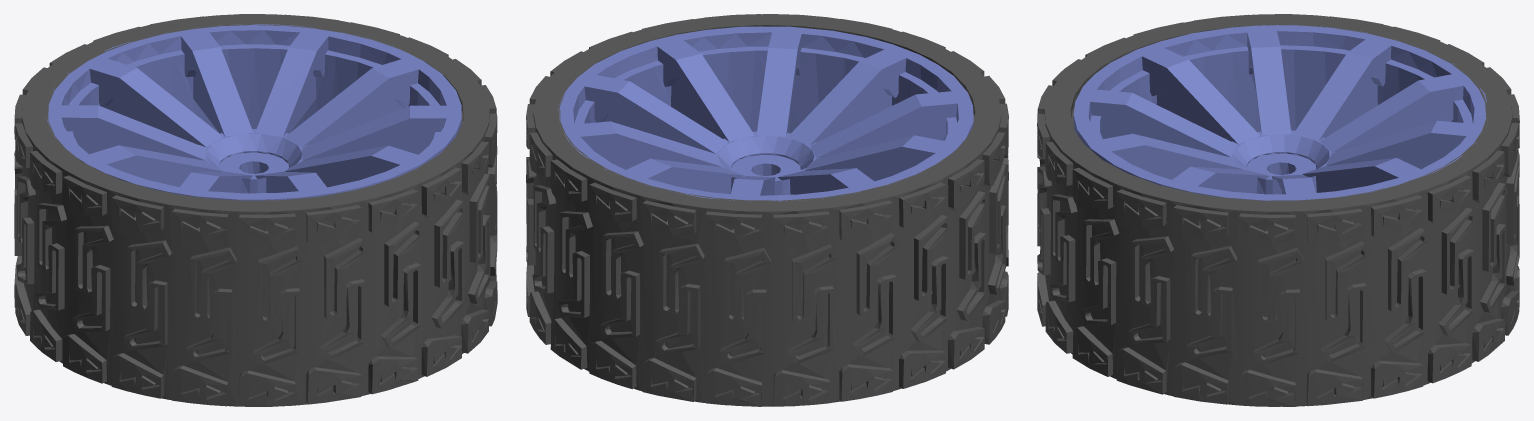
The model's file is wheel.dae.
3 views of the same model, side by side, from view 1: azimuth 30°, elevation 25°; view 2: azimuth 150°, elevation 25°; view 3: azimuth 270°, elevation 25° (orthographic).
Visible parts, largest first — view 1: node1; view 2: node1; view 3: node1.
Boxes of the visible parts, x1,y1,x2,y2 form: node1: (14,14,497,406); node1: (526,14,1008,406); node1: (1037,14,1519,406).
Bounding box in the file's own units: 0.065 × 0.065 × 0.029.
